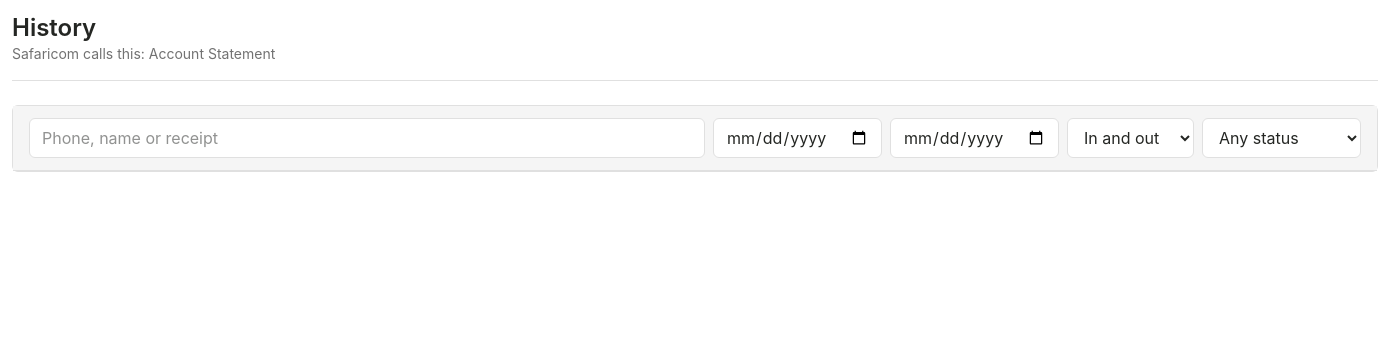
History › Ask Safaricom about a receipt › falls back to the generic message for a non-API error
Type "ri6bztpxnm" into the field named "Search phone, name or receipt" at (367, 138), box [29,118,705,158]
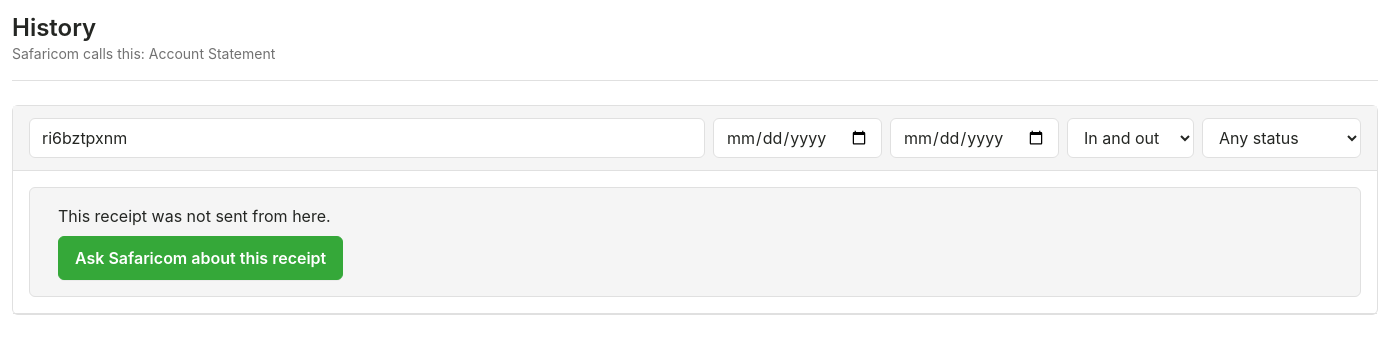
Click the button "Ask Safaricom about this receipt" at (201, 258), box [58,236,343,280]
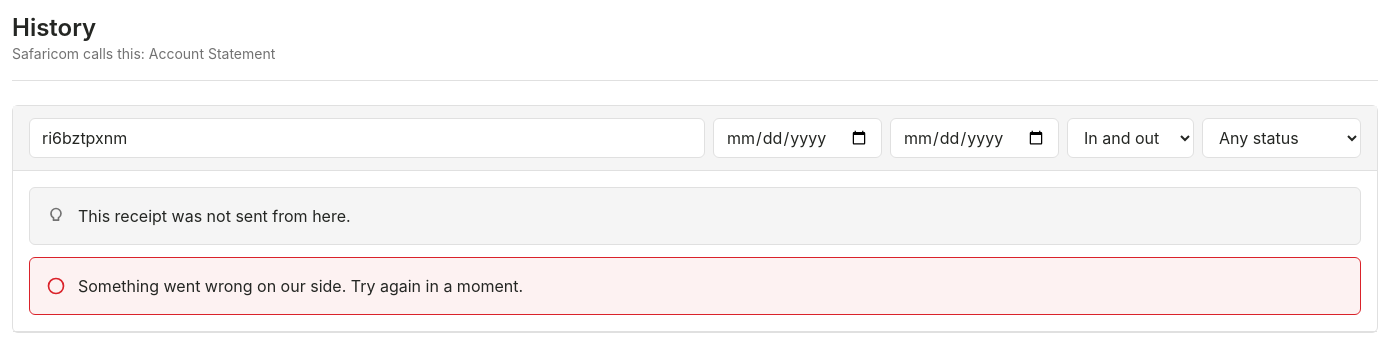
Expected: the text "Something went wrong on our side. Try again in a moment." is shown, [78,276,523,296]
